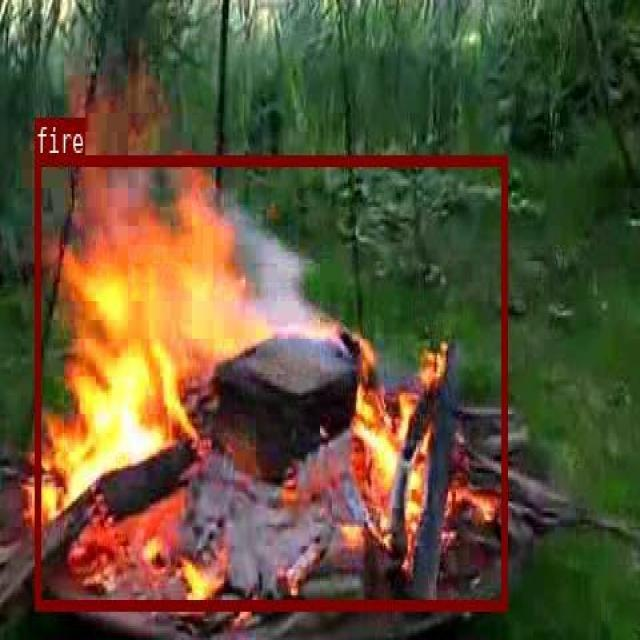fire: (34, 153, 506, 609)
